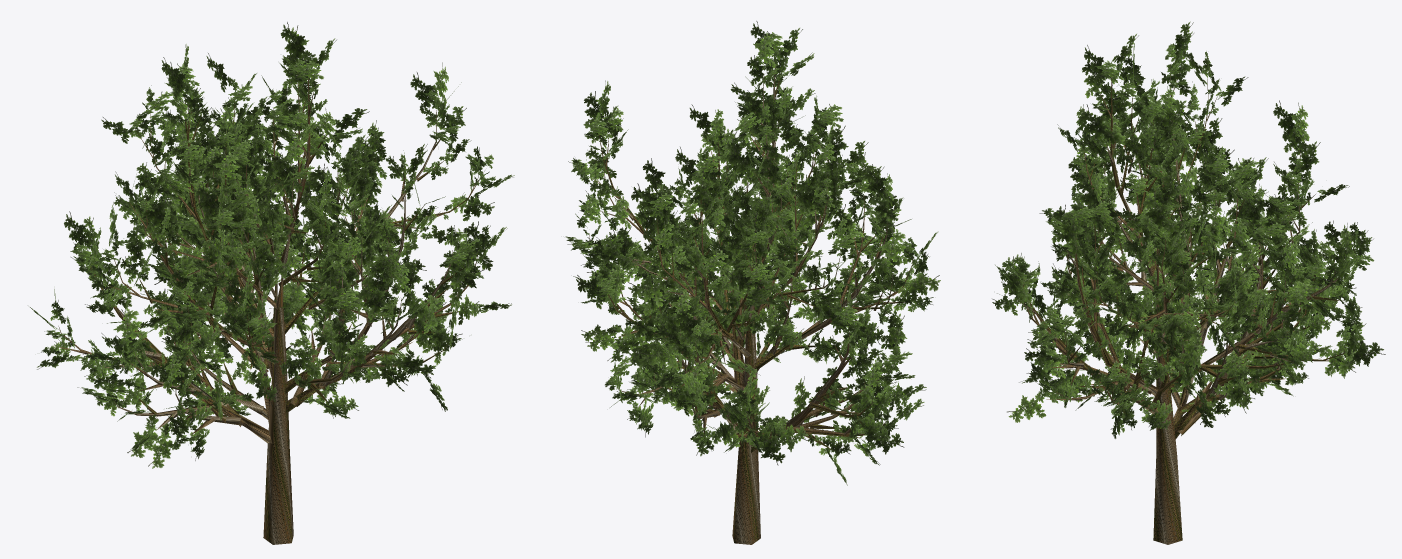
The model's file is oak-lod2.glb.
The picture shows the model from 3 angles, left to right: view 1: azimuth 30°, elevation 25°; view 2: azimuth 150°, elevation 25°; view 3: azimuth 270°, elevation 25°; orthographic projection. The views are drawn at different scales.
Visible parts, largest first — view 1: leaves, branches; view 2: leaves, branches; view 3: leaves, branches.
Part boxes in pixels (<box>): leaves: <box>30,22,514,468</box>; branches: <box>53,71,484,544</box>; leaves: <box>565,21,940,485</box>; branches: <box>589,61,915,544</box>; leaves: <box>992,21,1385,438</box>; branches: <box>1019,64,1354,544</box>.
Bounding box in the file's own units: 89.79 × 108 × 79.94.
Materials: 2 (2 with a texture image).
